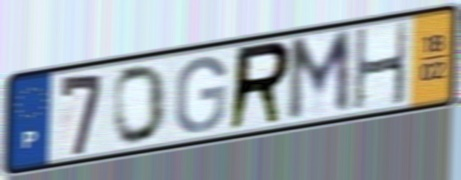7: (59, 72, 104, 158)
G: (172, 53, 229, 136)
H: (352, 19, 410, 114)
M: (285, 26, 354, 127)
O: (112, 62, 169, 147)
R: (225, 37, 295, 136)
